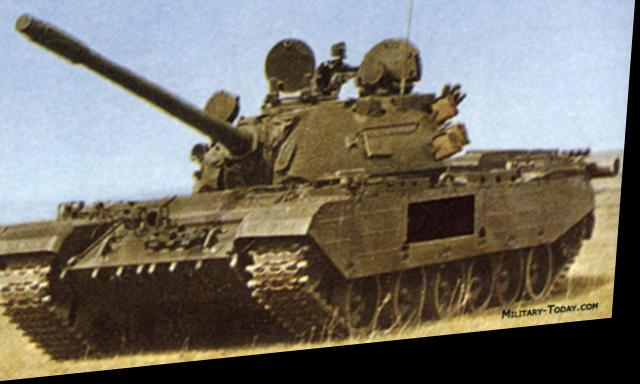tank: (0, 84, 627, 363)
